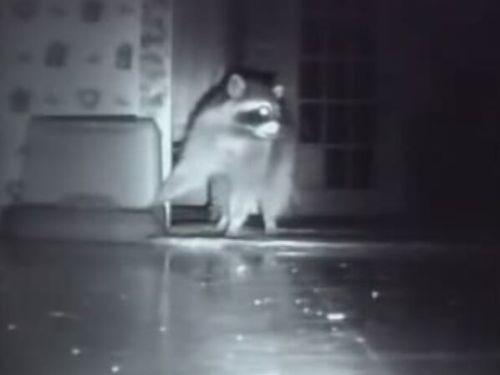raccoon: (131, 49, 304, 245)
